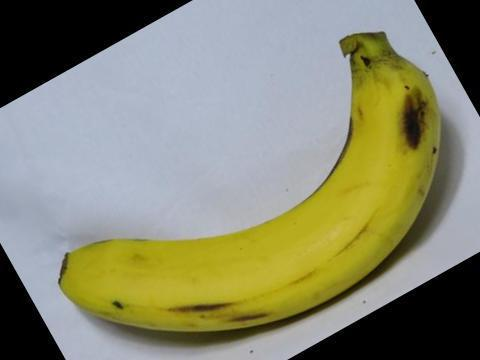freshripe: (51, 23, 453, 342)
